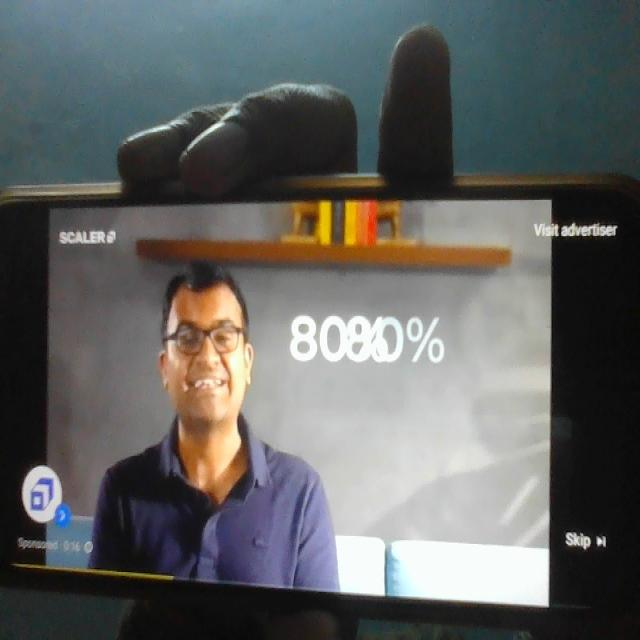fake: (147, 241, 256, 447)
